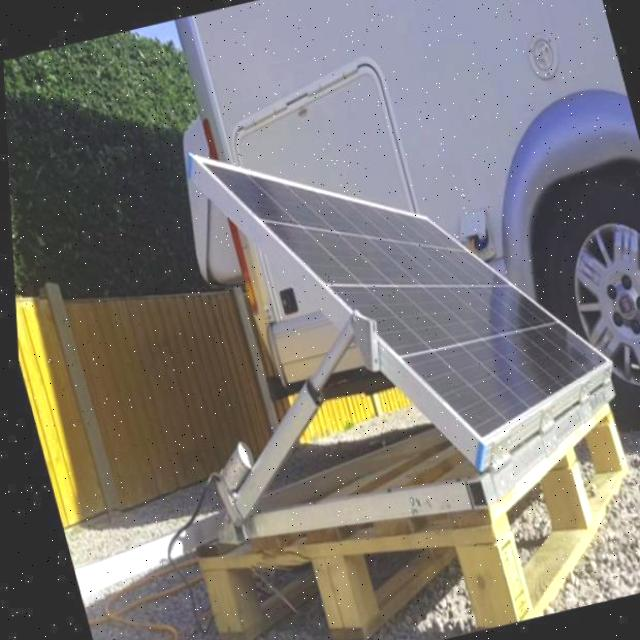Normal Solar Panel: (195, 78, 627, 498)
